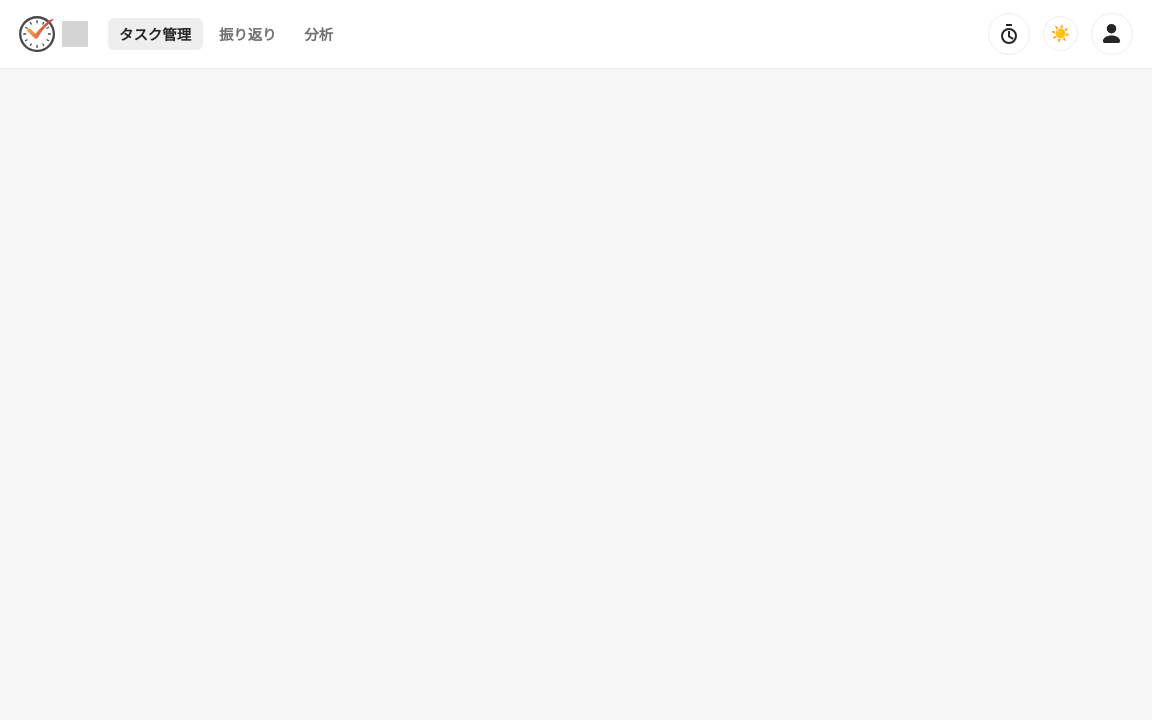
Test: AppHeader user menu › チュートリアル項目はタグ管理の上にあり、選ぶと章選択モーダルを開く
Click the button named "ユーザーメニューを開く" at (1112,34), box [1091,13,1133,55]
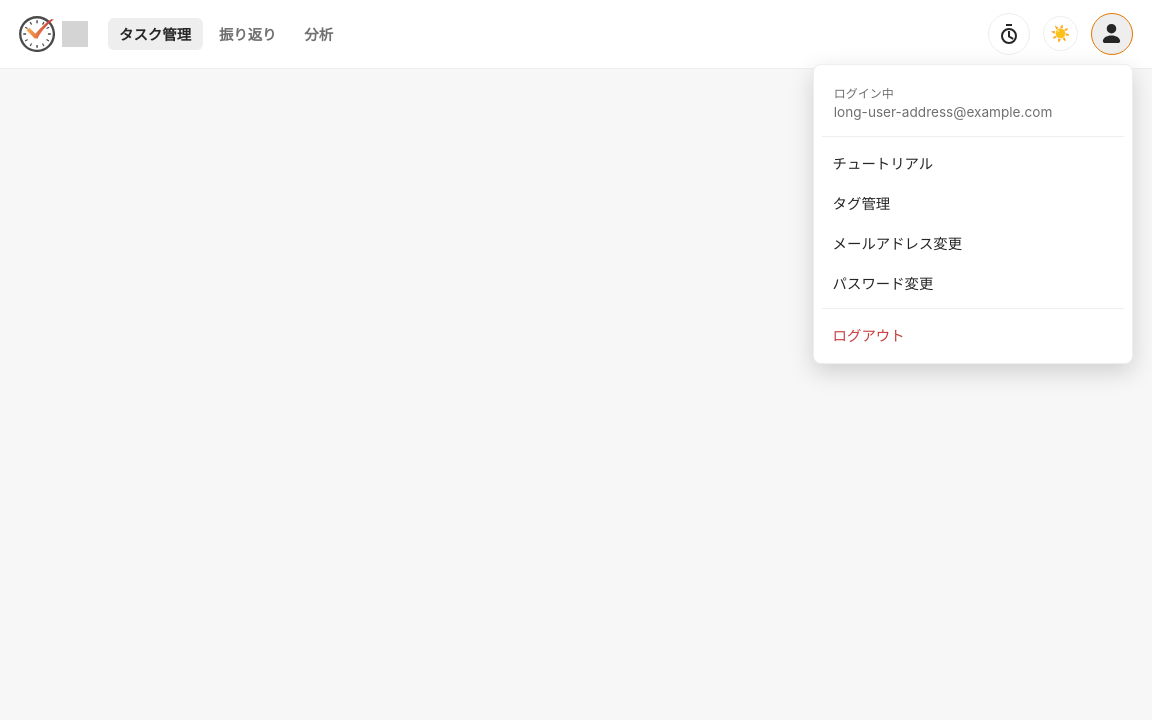
Click the menu item with class "user-menu-item" showing "チュートリアル" at (883,164), box [822,142,1124,182]
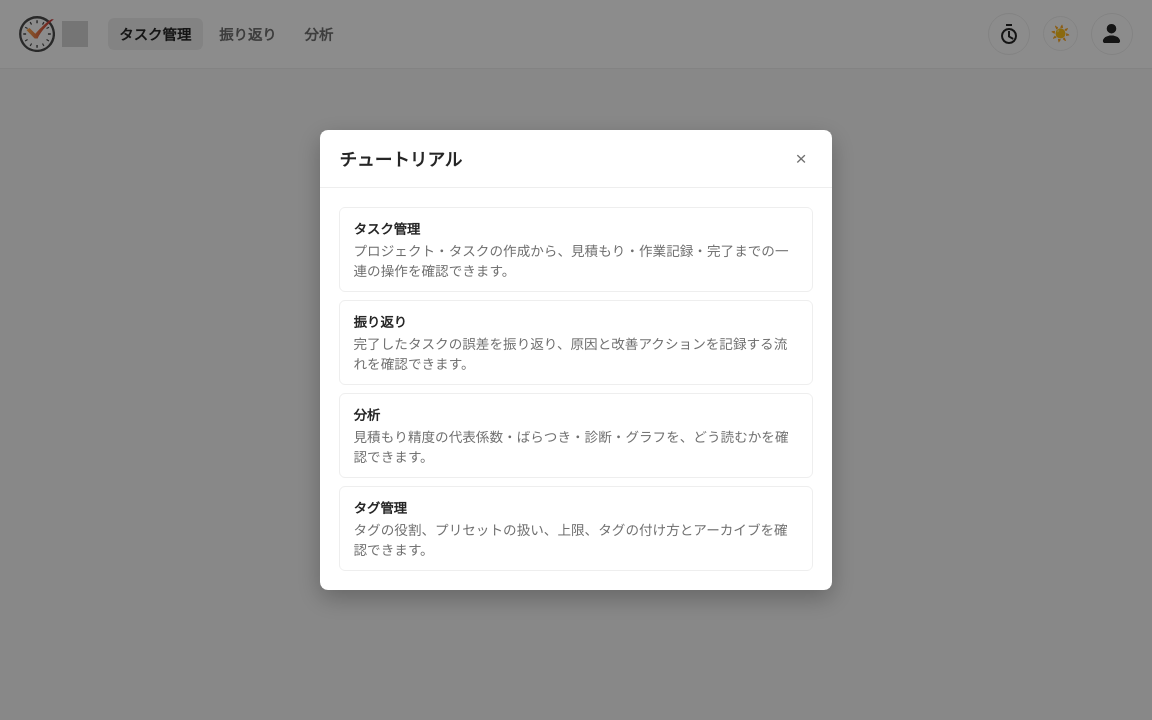
Now the dialog named "チュートリアル" is shown, box [320,130,832,590]
